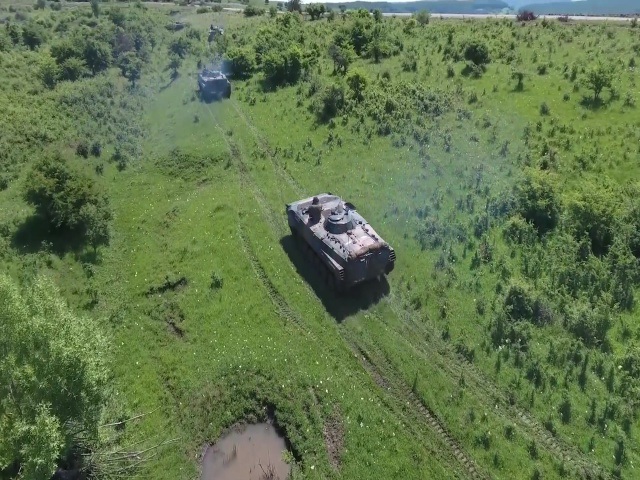vehicle: (283, 190, 398, 291), (197, 69, 233, 100), (206, 24, 224, 41)
